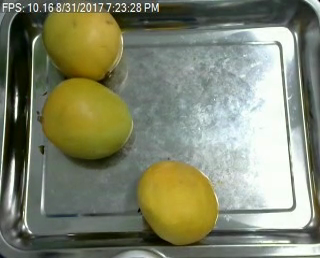Mango: (41, 79, 131, 158), (139, 160, 219, 246), (41, 2, 123, 78)
